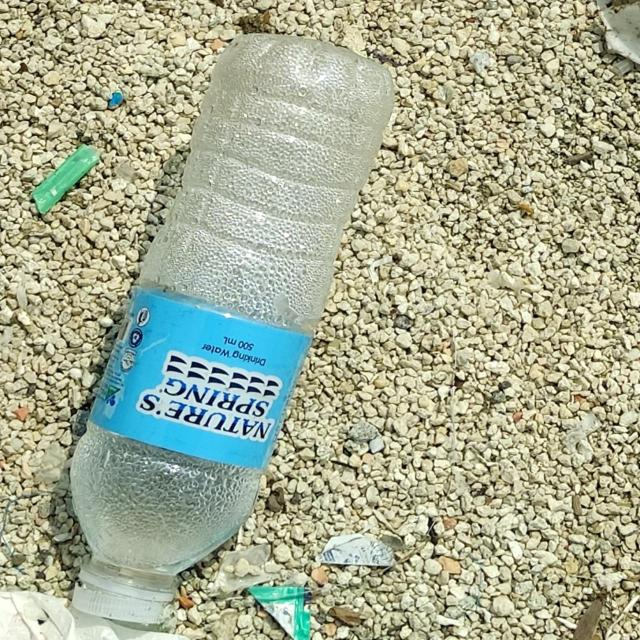plastic_waste: (67, 30, 401, 626), (246, 584, 313, 640)
